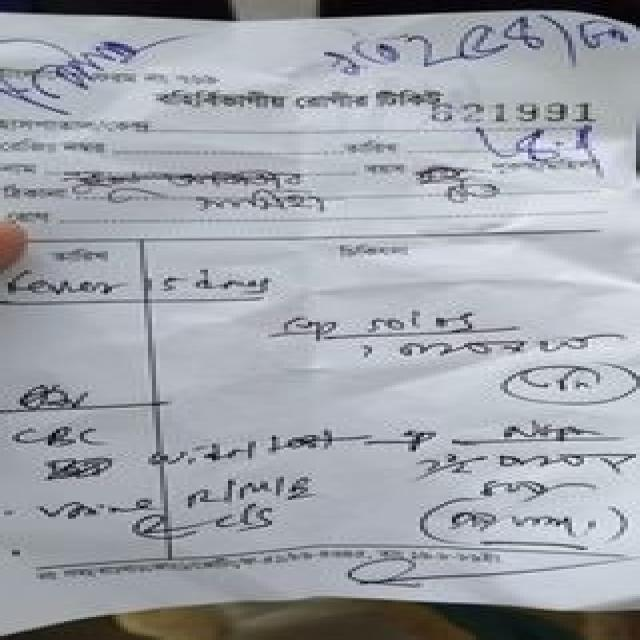Napa: (480, 415, 612, 442)
Solas: (362, 302, 488, 335)
